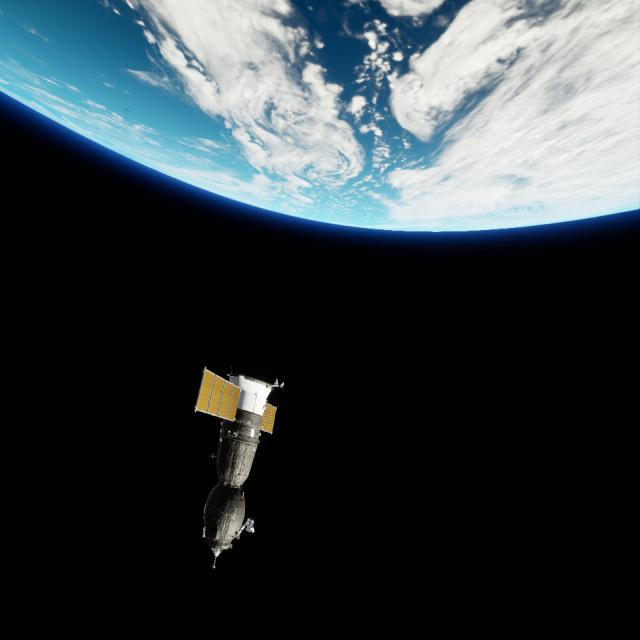Satellites revolving around earth: (192, 364, 286, 569)
